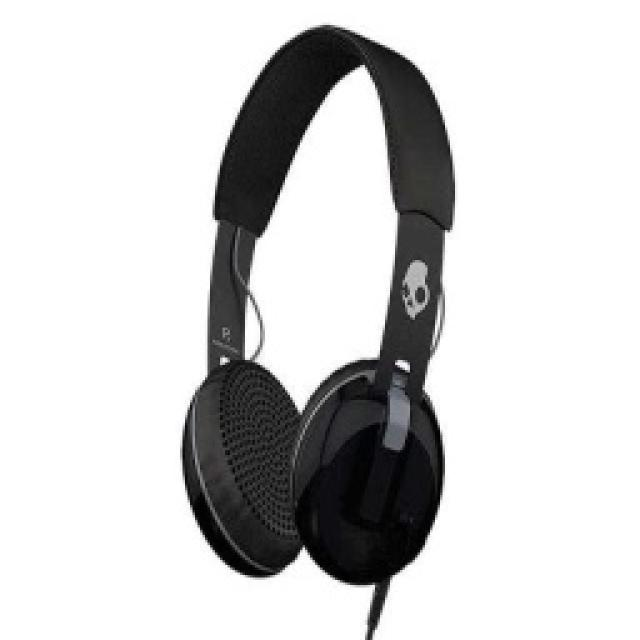headphones: (180, 20, 455, 585)
